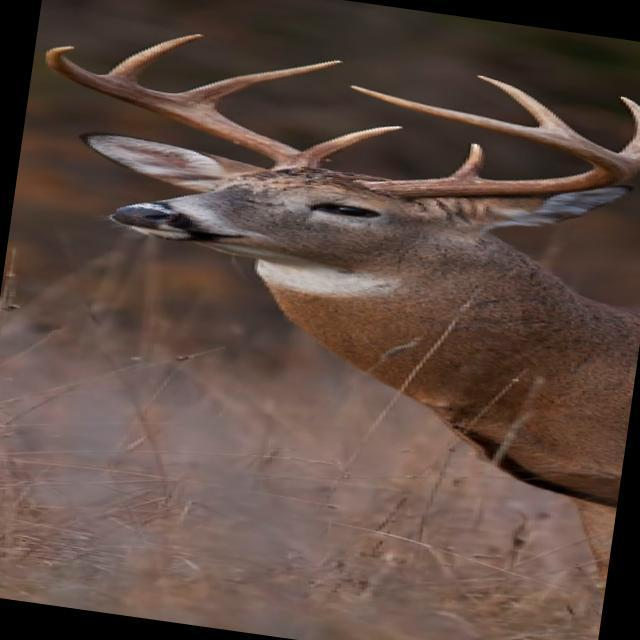L-F: (348, 85, 634, 200)
L-G1: (438, 143, 487, 182)
L-G2: (616, 96, 640, 174)
L-G3: (475, 74, 588, 141)
R-G1: (299, 126, 404, 163)
R-G2: (171, 60, 343, 112)
R-G3: (94, 34, 206, 87)
